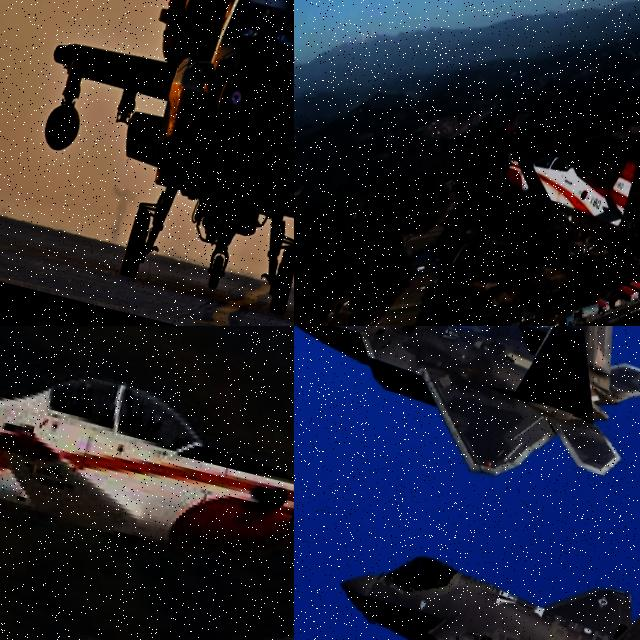Apache: (0, 0, 294, 326)
F22: (294, 326, 640, 505), (313, 487, 640, 640)
KT-1: (0, 326, 294, 608), (478, 114, 640, 252)
